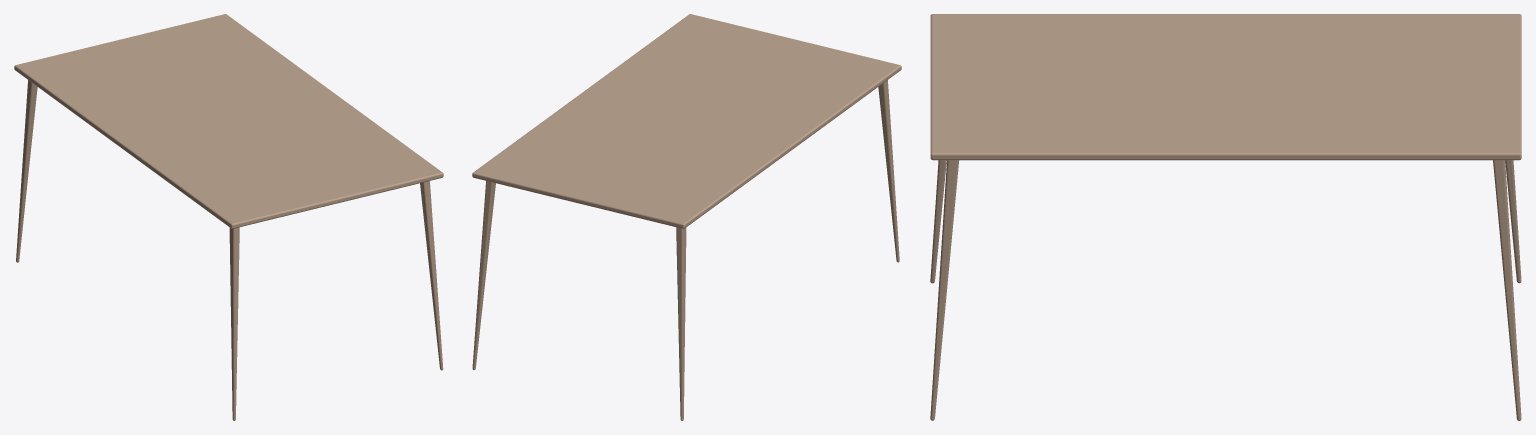
File: Table.fbx
The picture shows the model from 3 angles, left to right: view 1: azimuth 30°, elevation 25°; view 2: azimuth 150°, elevation 25°; view 3: azimuth 270°, elevation 25°; orthographic projection. The views are drawn at different scales.
Visible parts, largest first — view 1: Cube.003; view 2: Cube.003; view 3: Cube.003.
Boxes of the visible parts, x1,y1,x2,y2 form: Cube.003: (14, 14, 443, 420); Cube.003: (472, 14, 901, 420); Cube.003: (930, 14, 1521, 420).
Bounding box in the file's own units: 90 × 80 × 160.
